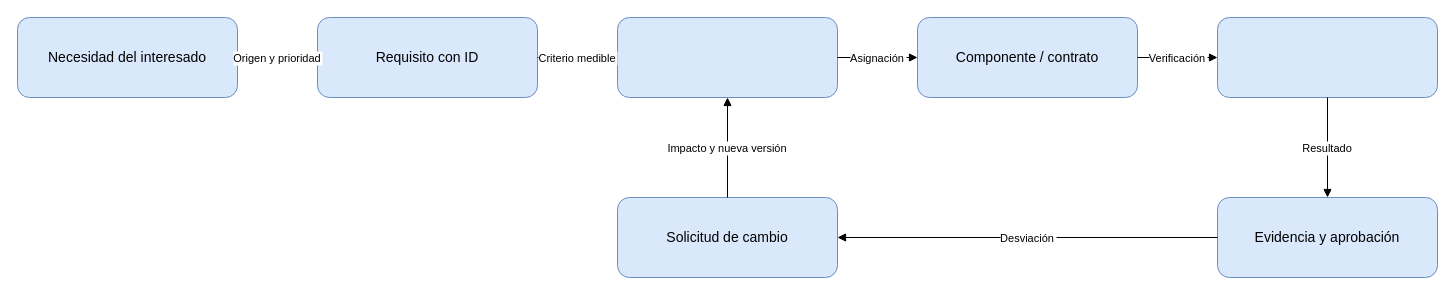
The diagram is 1455 pixels wide and 295 high, and some of its shapes have lost their labels. Each missing label, with the centre of its shape:
"Caso de aceptación" goes at (1327,57).
"Revisión y baseline" goes at (727,57).
